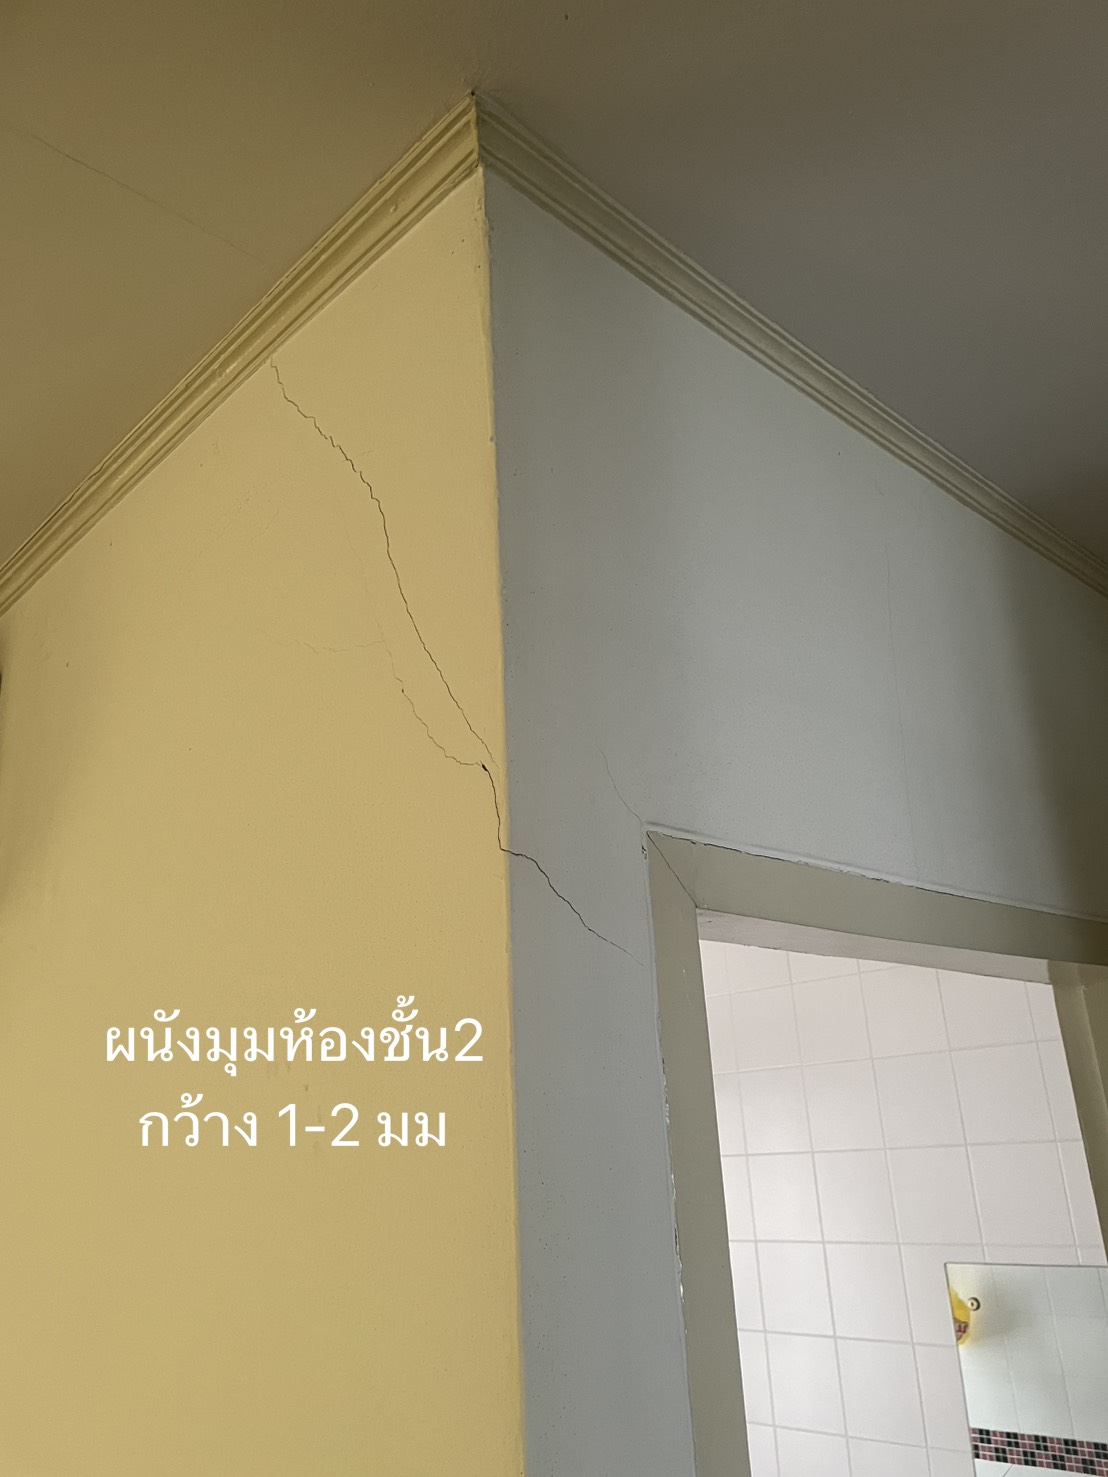Low: (269, 357, 702, 949)
